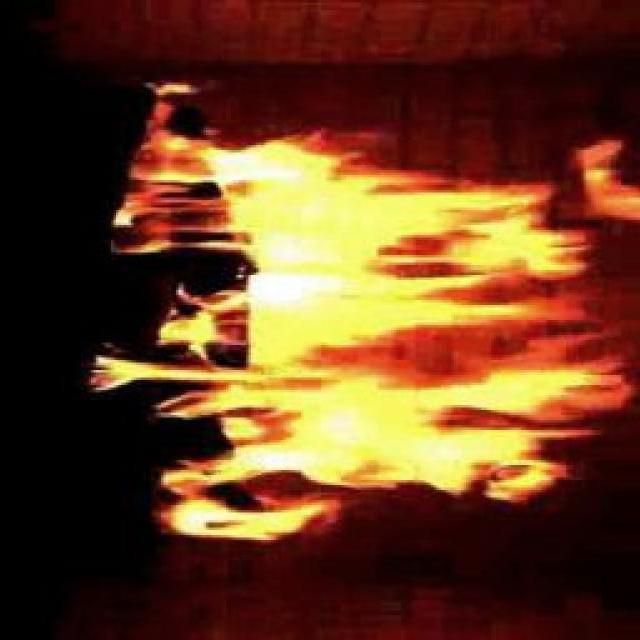Fire: (181, 148, 601, 524)
